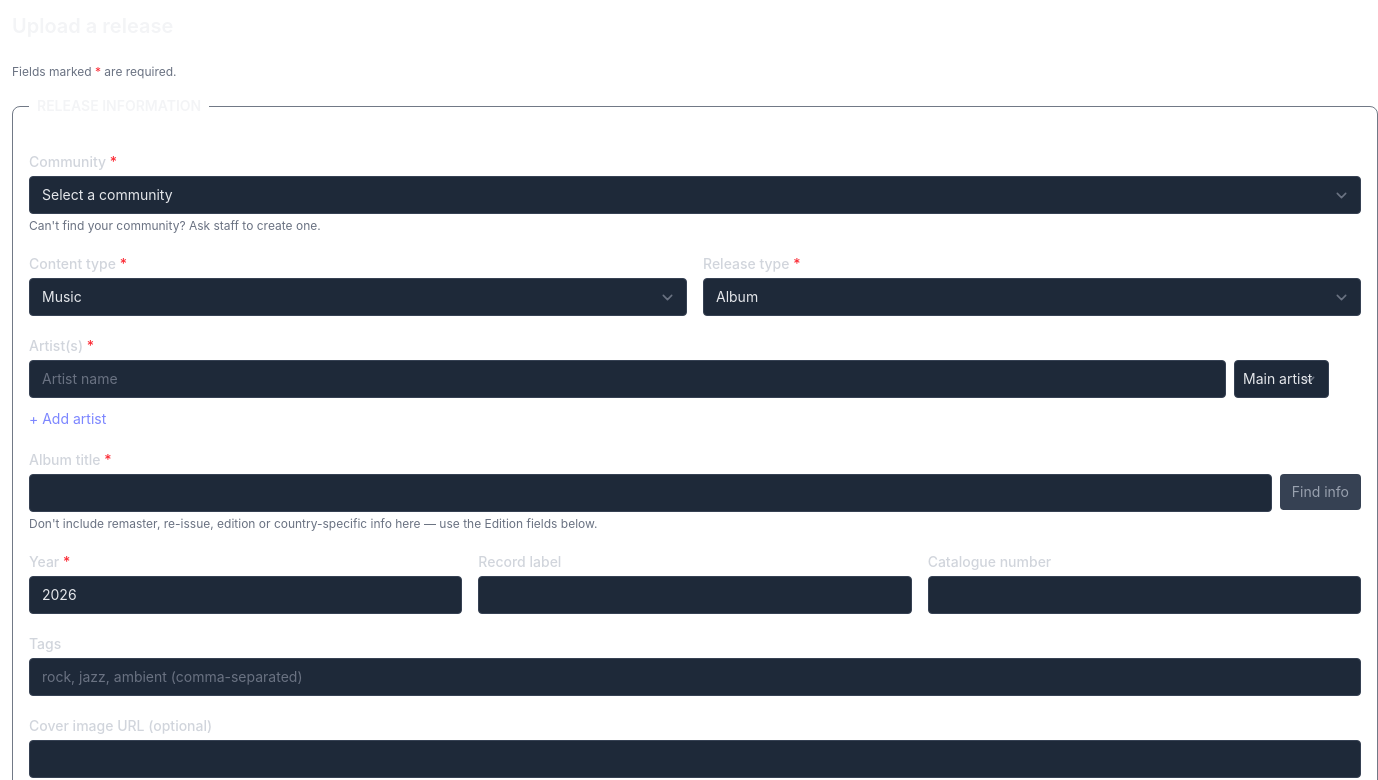
Scenario: ContributeForm › hides Music-only fields for non-Music types
Select "EBooks" in the dropdown labelled "Content type *" at x=358, y=297, box left=29, top=278, right=687, bottom=316
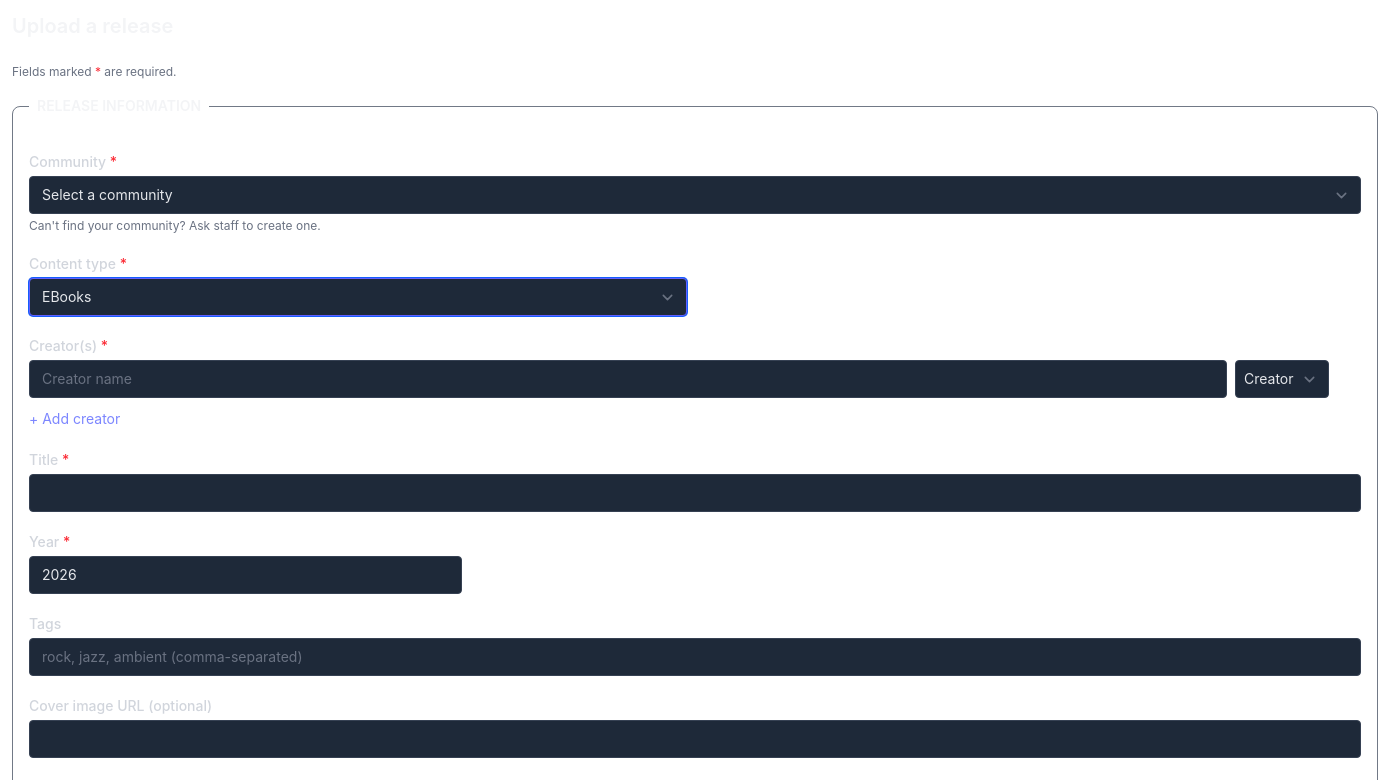
expect the label labelled "Release type" is gone: met
